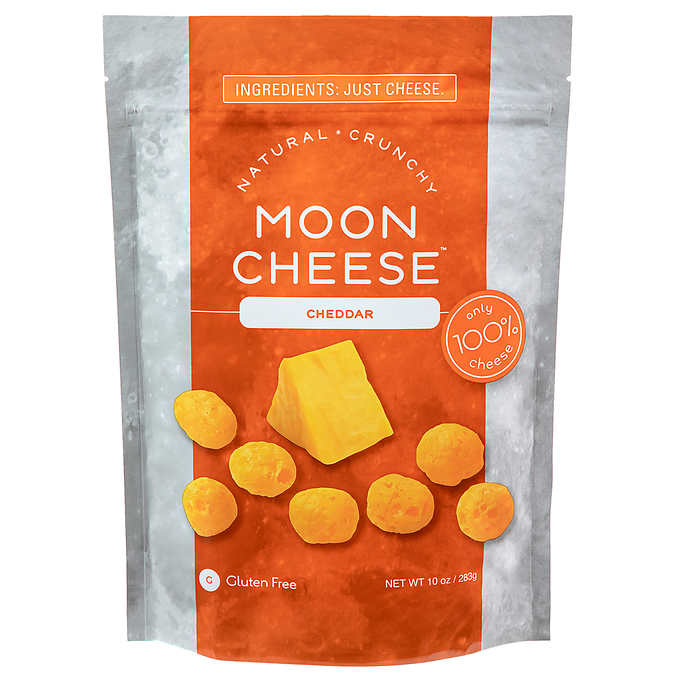cheese: (248, 334, 402, 473), (417, 408, 494, 487), (190, 474, 237, 538)
